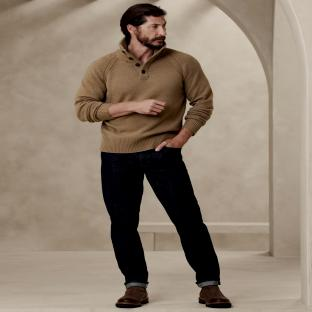Human: (75, 3, 231, 307), (101, 147, 220, 288)
